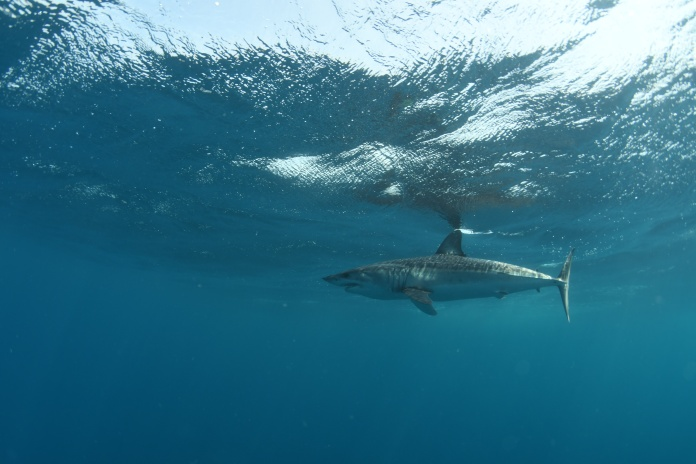Mako: (316, 225, 582, 322)
